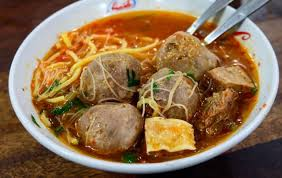bakso: (50, 16, 249, 153)
